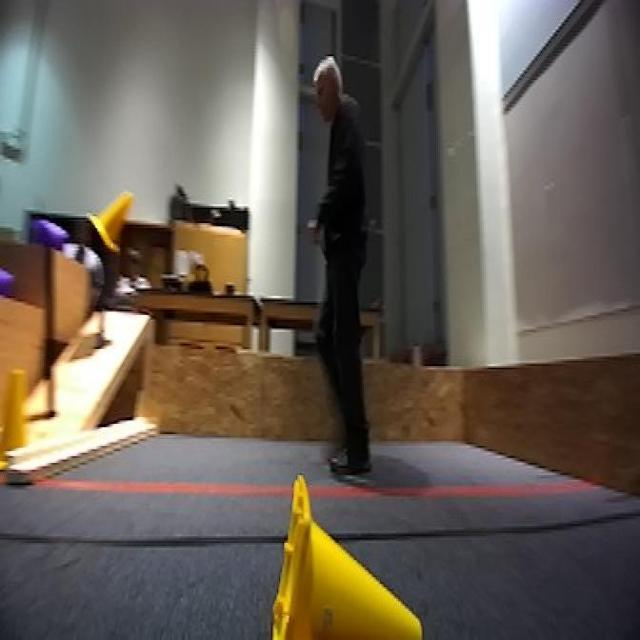frc_cone: (268, 466, 434, 640), (86, 187, 136, 257)
frc_cube: (29, 216, 66, 252), (0, 269, 17, 293)
